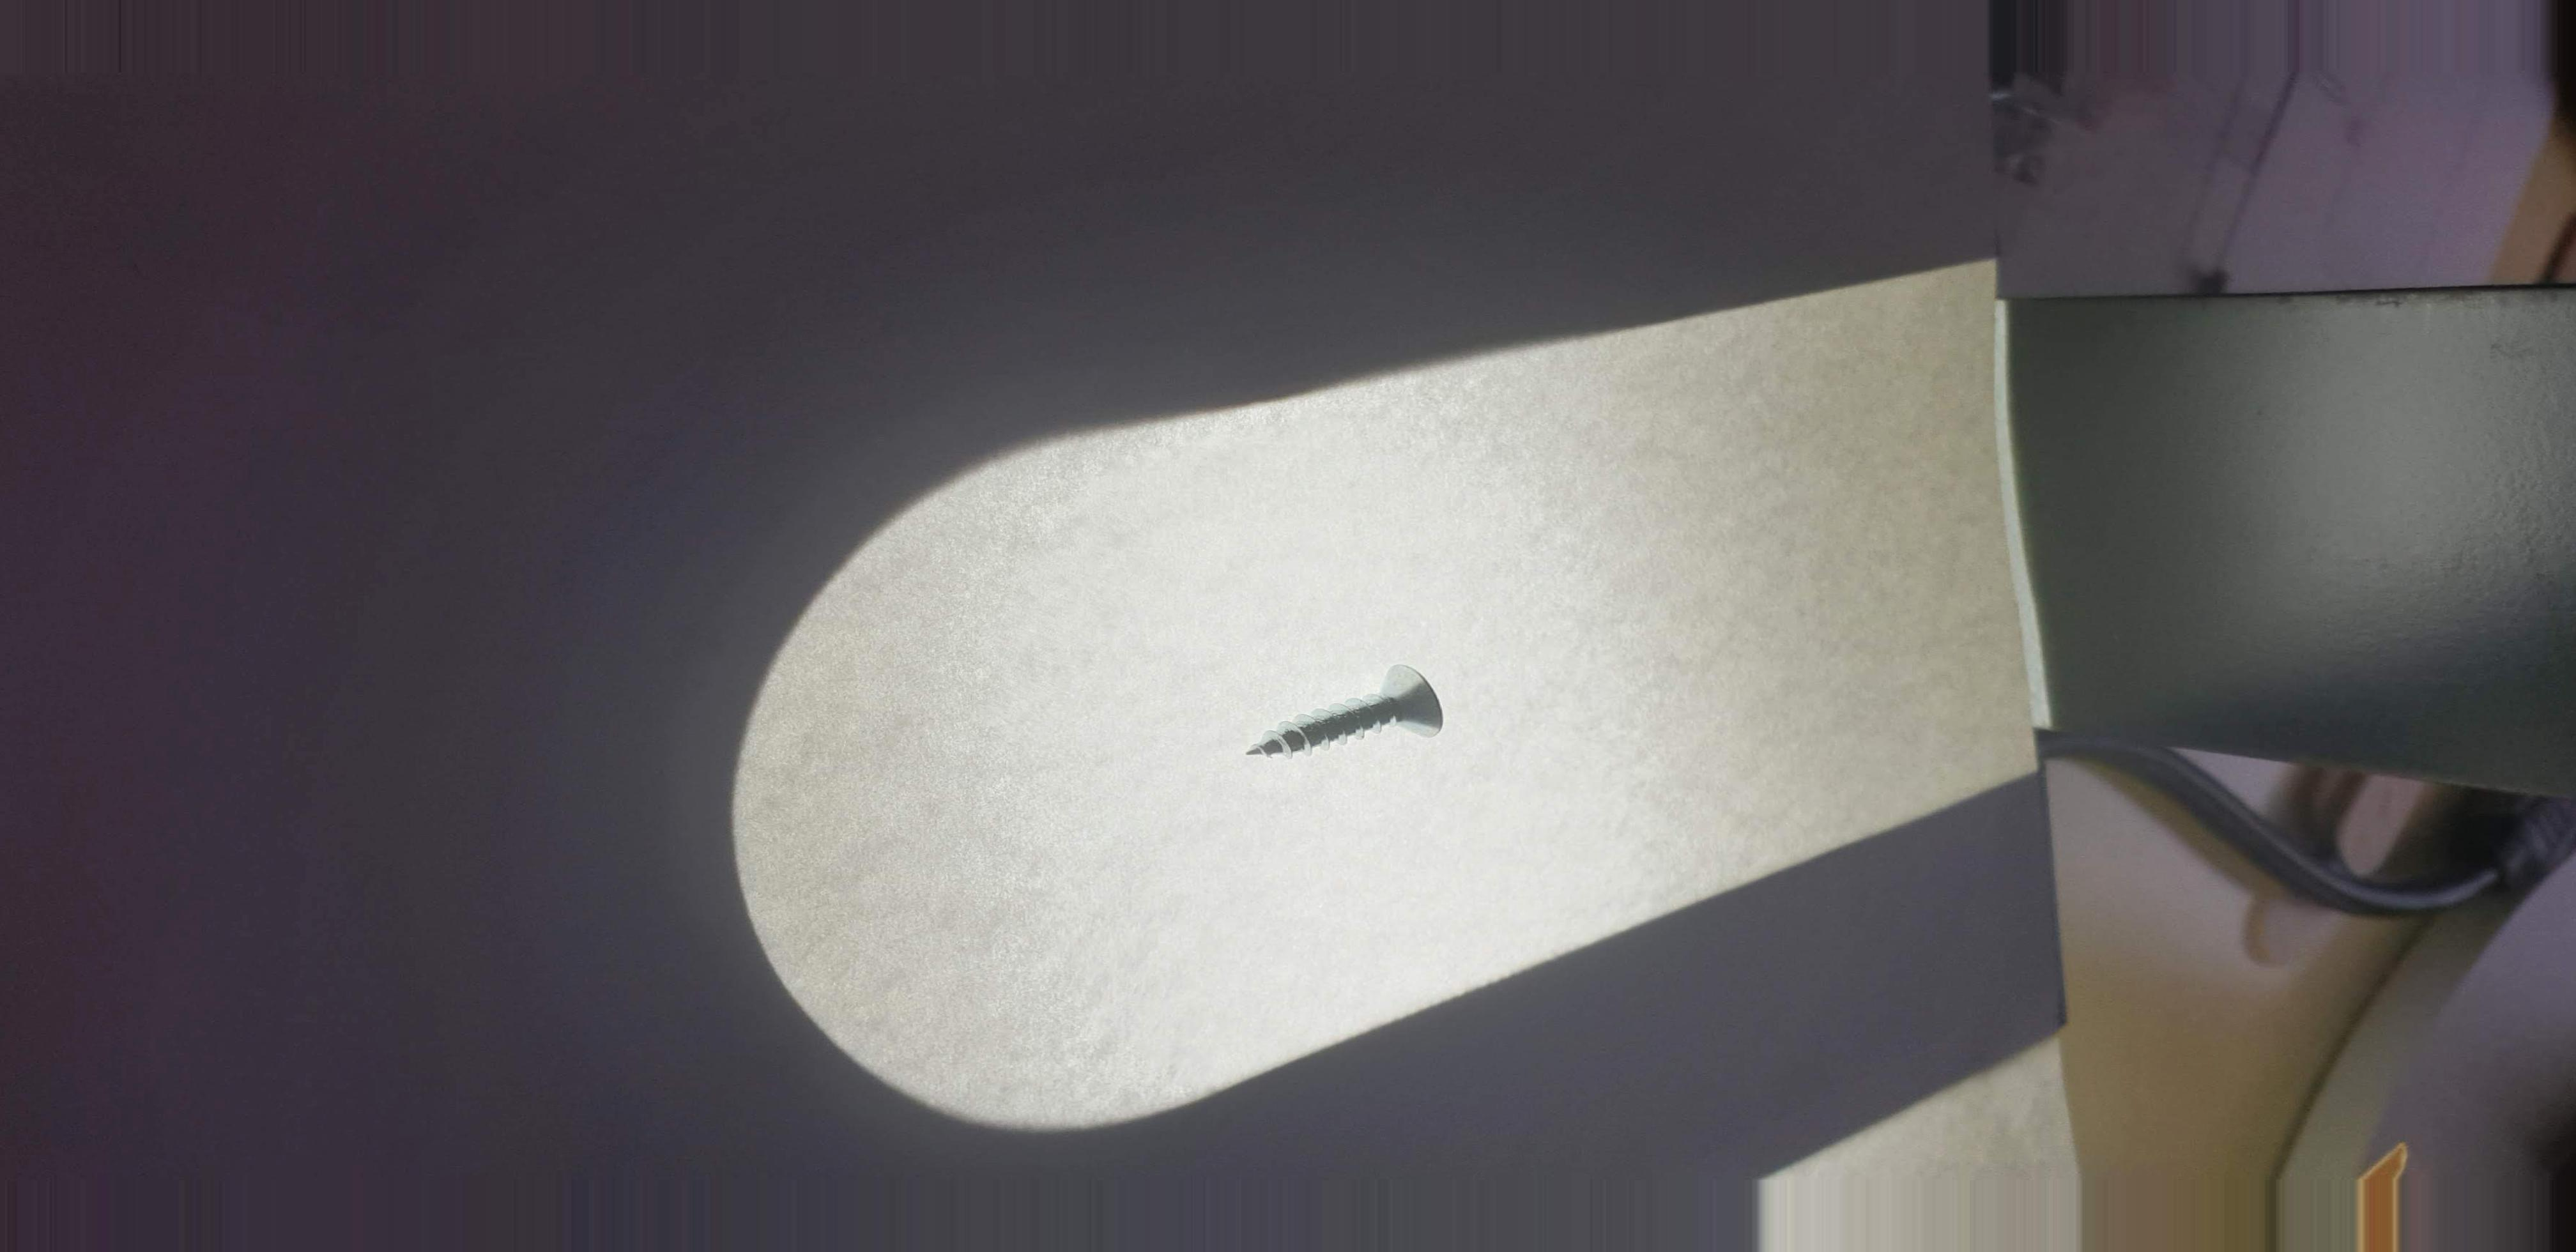S003: (1186, 639, 1516, 810)
